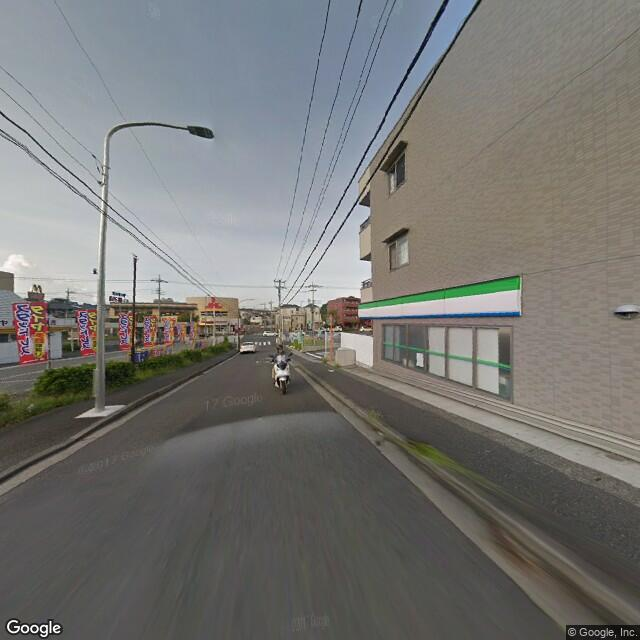family_mart: (359, 274, 523, 322)
